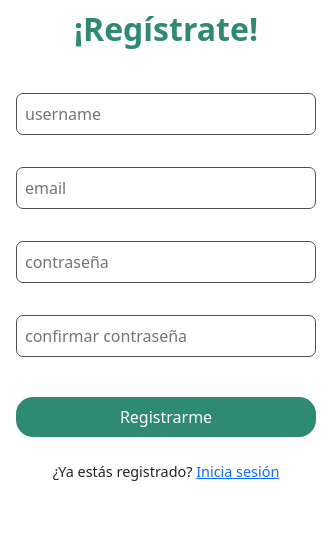
it: NewUser Component Test › shows error for invalid username characters test
The image size is (333, 546).
Type "abc!!" into the field with placeholder "username" at (166,114), box x1=16 y1=93 x2=316 y2=135
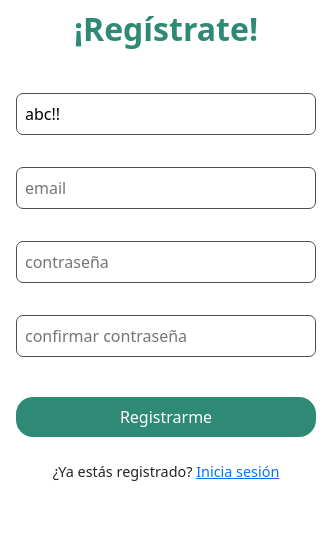
Type "user@example.com" into the field with placeholder "email" at (166,188), box x1=16 y1=167 x2=316 y2=209
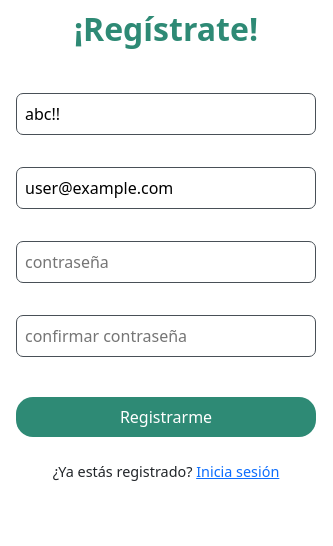
Type "12345" into the password field with placeholder "contraseña" at (166,262), box x1=16 y1=241 x2=316 y2=283
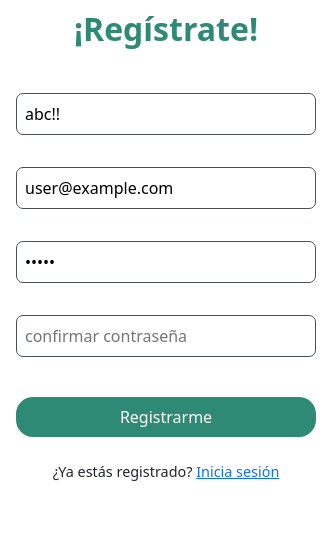
Type "12345" into the password field with placeholder "confirmar contraseña" at (166,336), box x1=16 y1=315 x2=316 y2=357
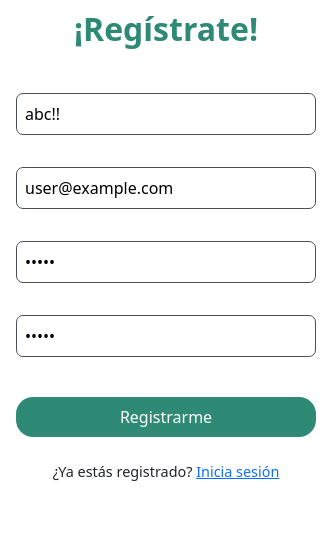
Click the button "Registrarme" at (166,417), box x1=16 y1=397 x2=316 y2=437
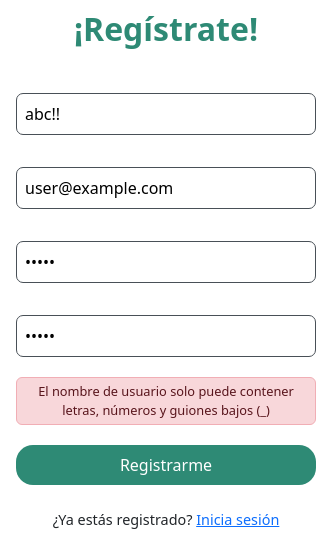
Expected: the text "solo puede contener letras, números y guiones bajos" is shown, x1=38 y1=382 x2=294 y2=419
